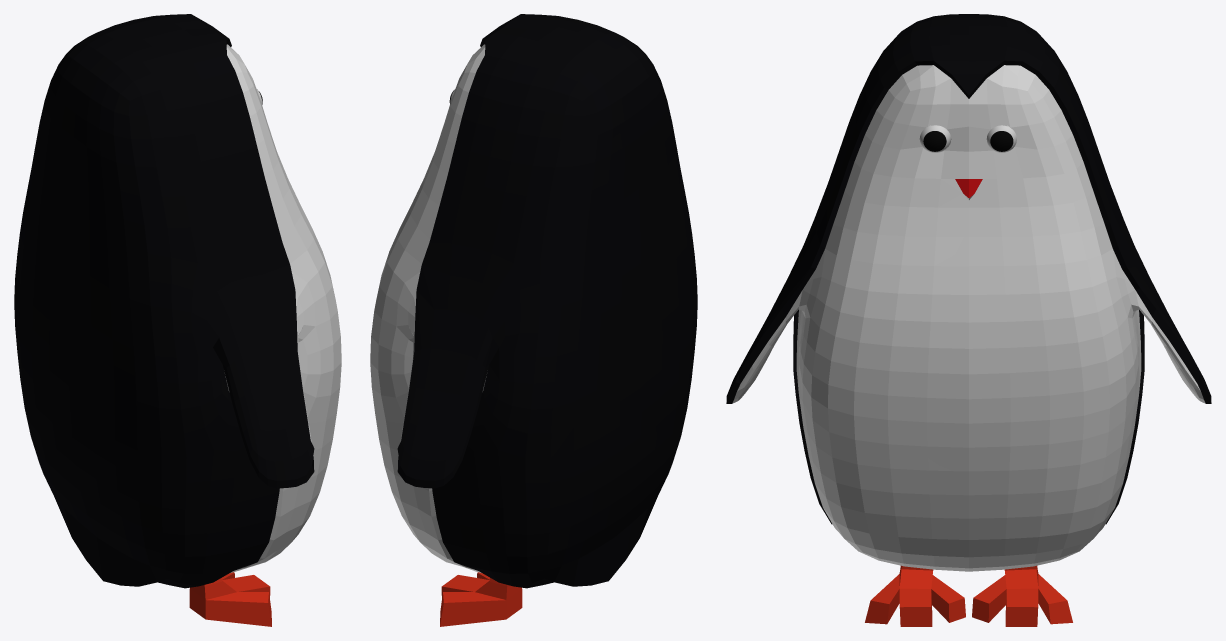
Rendered from zzz1.glb.
3 renders of one model, left to right at view 1: azimuth 30°, elevation 25°; view 2: azimuth 150°, elevation 25°; view 3: azimuth 270°, elevation 25°, orthographic.
Parts seen in each view (by area): view 1: mesh_id8, mesh_id5, mesh_id6; view 2: mesh_id8, mesh_id5, mesh_id6; view 3: mesh_id5, mesh_id8, mesh_id6.
Part boxes in pixels (box(x1,y1,x2,y2)): mesh_id8: box(14, 14, 314, 588); mesh_id5: box(225, 44, 341, 572); mesh_id6: box(189, 572, 271, 626); mesh_id8: box(397, 14, 697, 588); mesh_id5: box(370, 44, 486, 572); mesh_id6: box(440, 572, 522, 626); mesh_id5: box(732, 65, 1205, 571); mesh_id8: box(726, 14, 1211, 524); mesh_id6: box(865, 565, 1072, 626).
Bounding box in the file's own units: 0.9165 × 2.2 × 1.72.
Materials: 9 (9 with a texture image).
